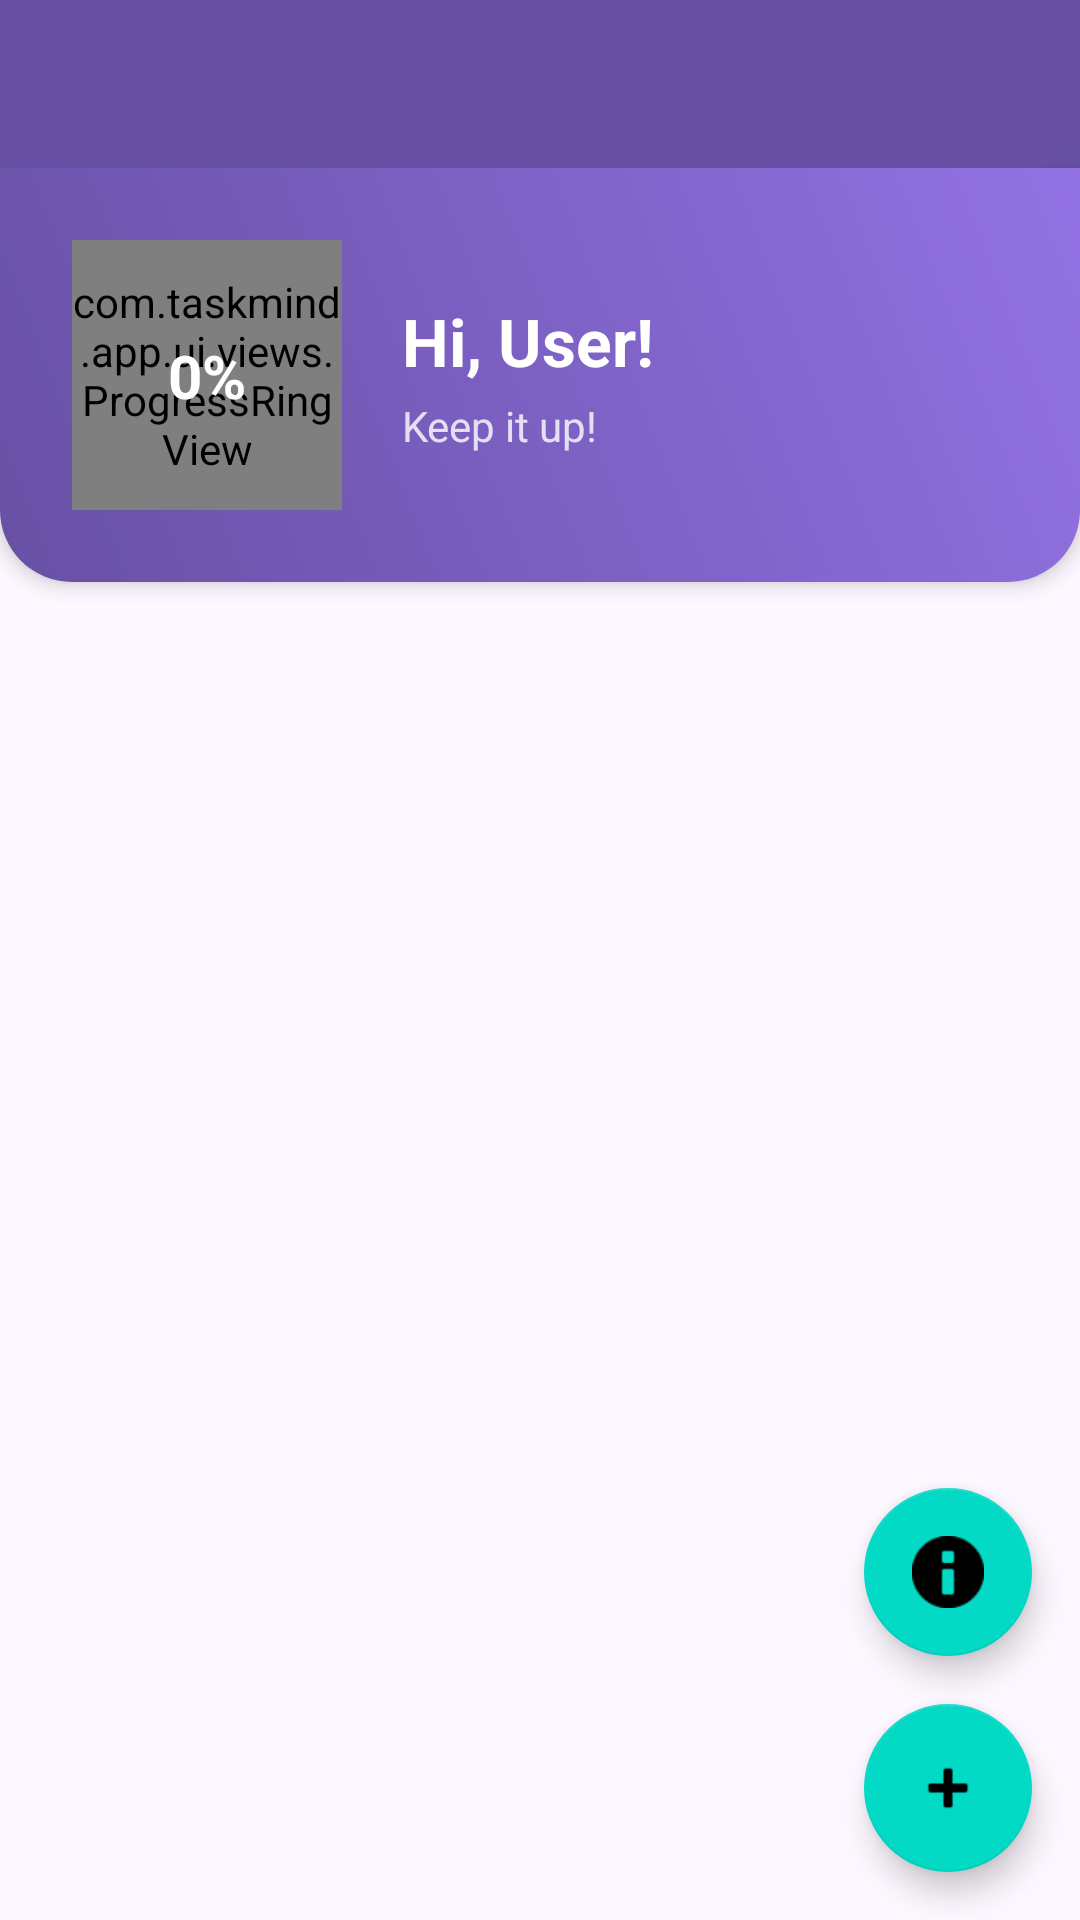

Where to tap for icons on this 1080 × 1920 app screen, as [x,y]:
Add Task: [948,1788]
